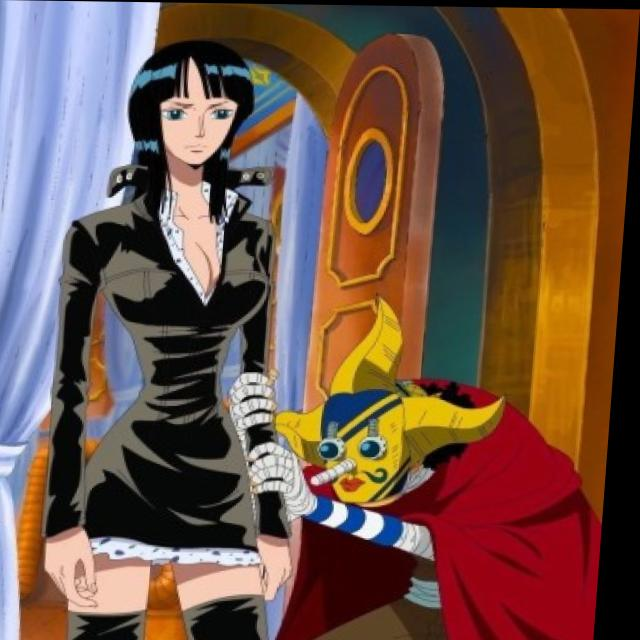NicoRobin: (115, 32, 258, 228)
Usopp: (258, 273, 525, 534)
